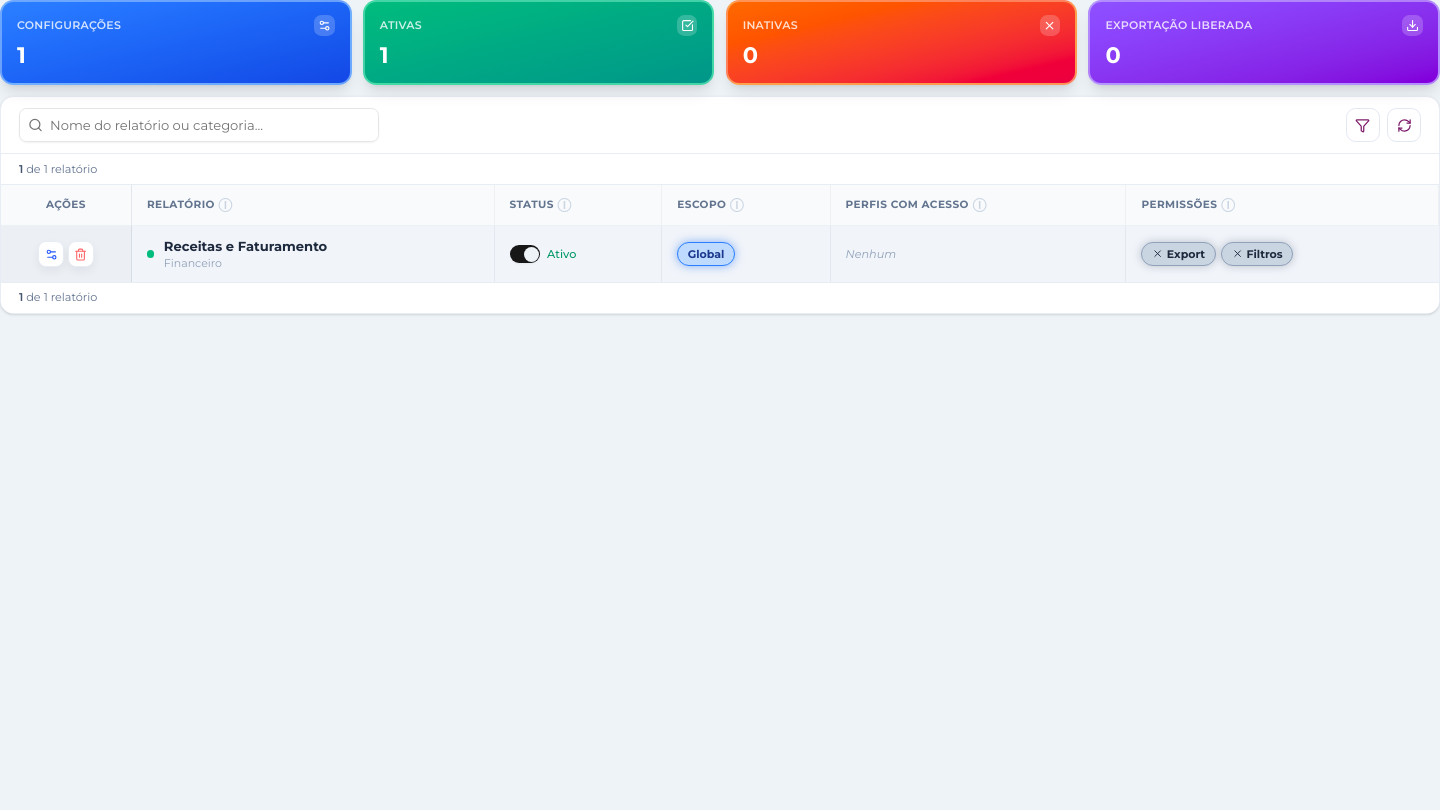
Scenario: ReportConfigsTable — exclusão com dupla confirmação › não usa window.confirm; clicar em remover abre o diálogo de duas etapas
The image size is (1440, 810).
Click the button named "remover configuração de": (81, 254) [68,241,94,267]
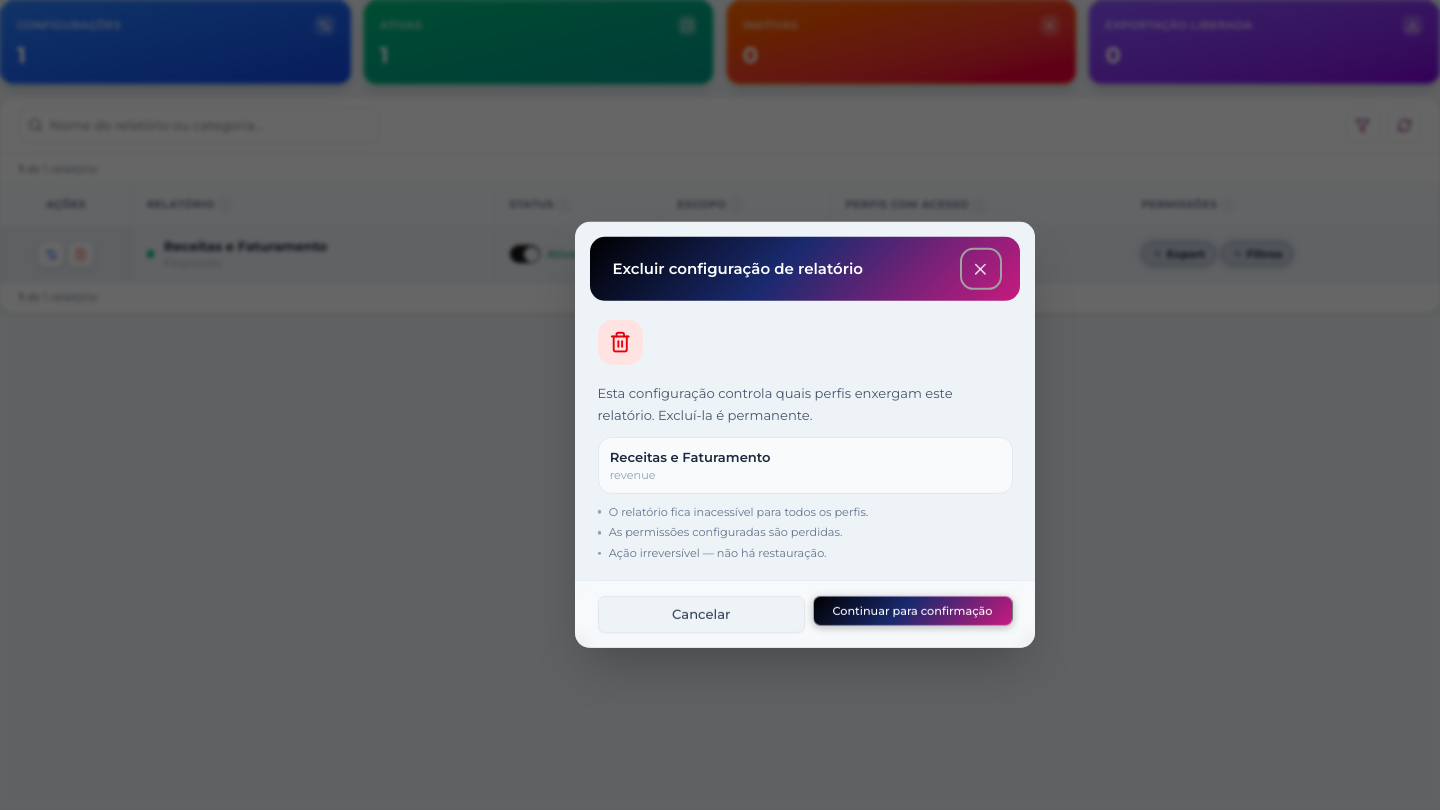
Expected: the text "Excluir configuração de relatório" is shown, [612,258,863,278]
Expected: the text "O relatório fica inacessível para todos os perfis." is shown, [609,505,868,520]
